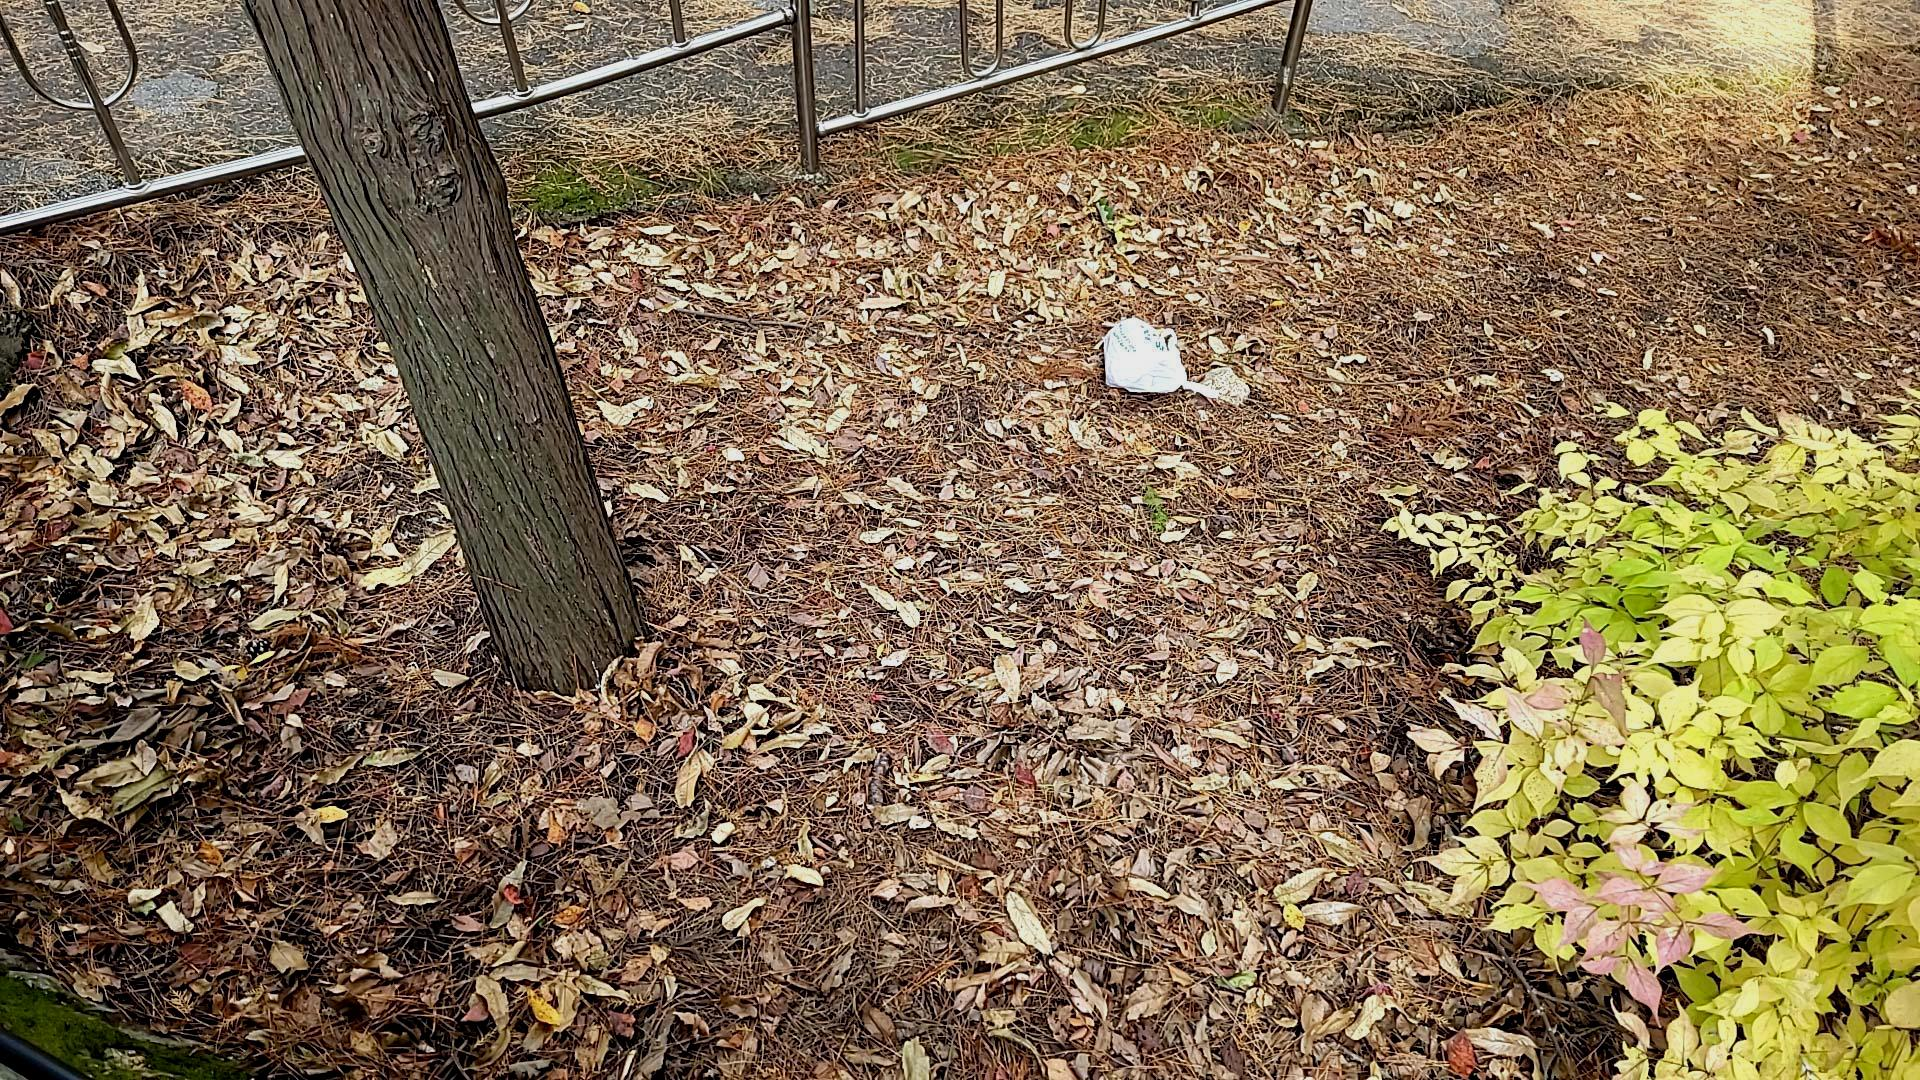white_bag: (1095, 314, 1222, 404)
